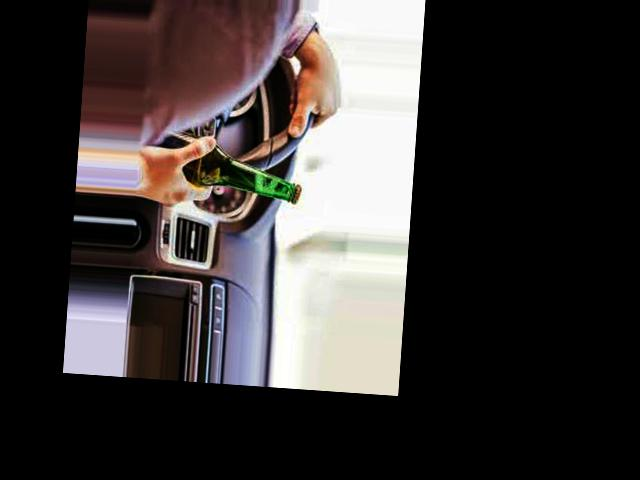beer: (150, 130, 305, 205)
